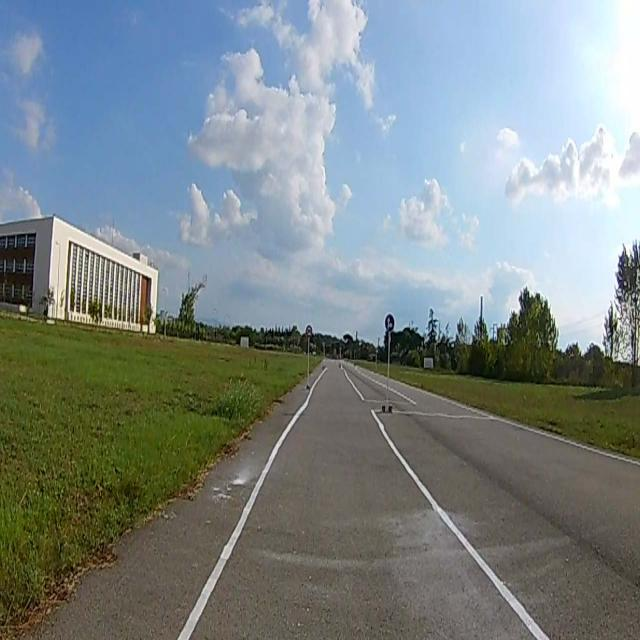ilerisag: (386, 314, 394, 331)
